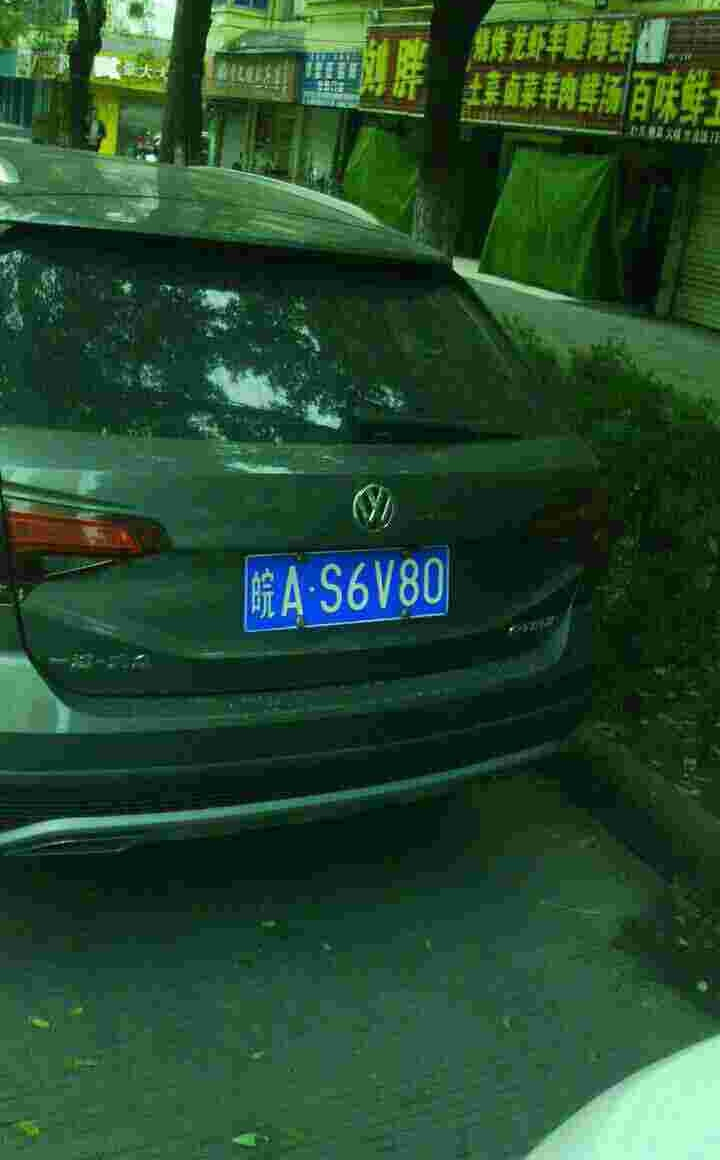license_plate: (240, 545, 455, 645)
